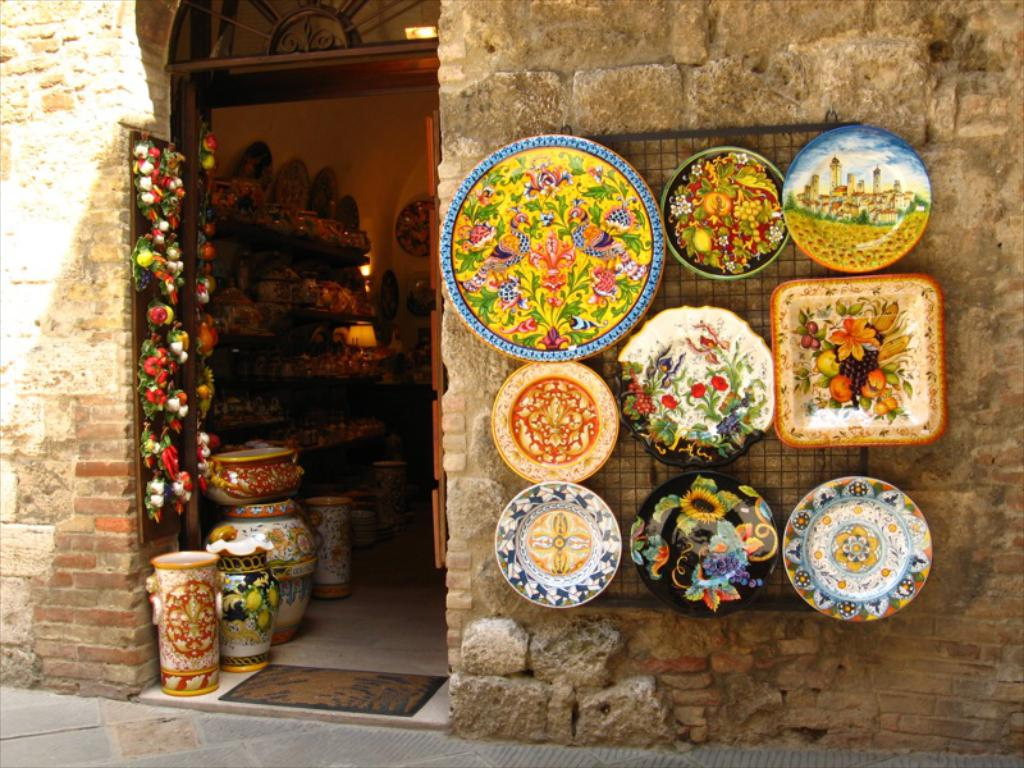plate: (437, 135, 665, 363), (768, 280, 942, 442), (616, 308, 775, 464), (780, 124, 931, 270), (780, 478, 931, 622), (631, 469, 776, 613), (491, 478, 637, 604), (663, 147, 788, 280), (491, 362, 616, 483)
